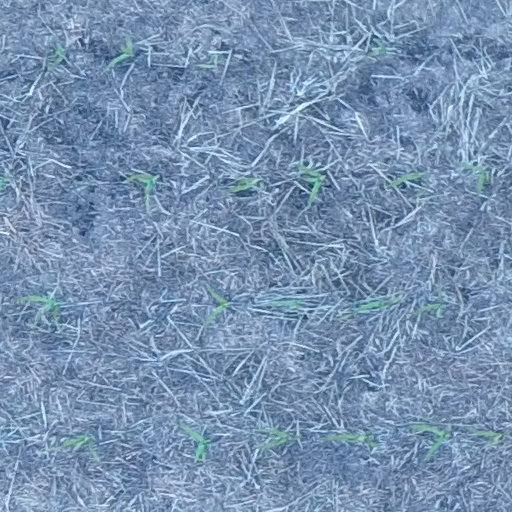planta: (338, 293, 404, 322), (407, 419, 454, 459), (13, 292, 64, 327), (321, 426, 384, 452), (293, 160, 327, 207), (176, 421, 214, 463), (454, 159, 494, 197), (254, 424, 303, 454), (202, 284, 234, 329), (407, 285, 447, 321), (123, 170, 161, 206), (57, 432, 102, 461), (105, 32, 136, 70), (384, 168, 427, 191), (225, 173, 267, 196), (467, 427, 511, 448), (44, 42, 67, 72), (264, 297, 306, 312), (363, 38, 390, 59), (197, 55, 221, 72)
